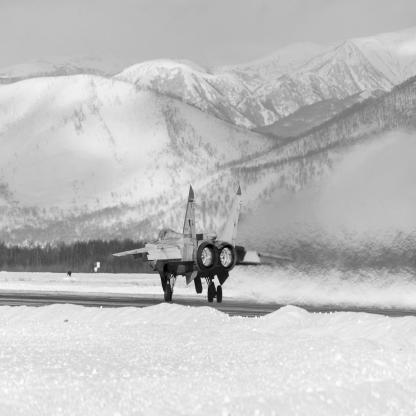Mig31: (113, 185, 293, 304)
